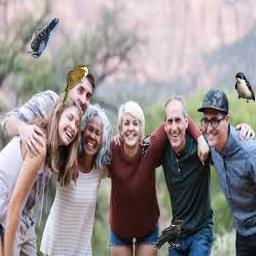Crow: (154, 220, 183, 249)
Cuckoo: (62, 64, 89, 104), (142, 135, 152, 157)
Swallow: (235, 72, 255, 103)
Woodpecker: (27, 18, 59, 58)
